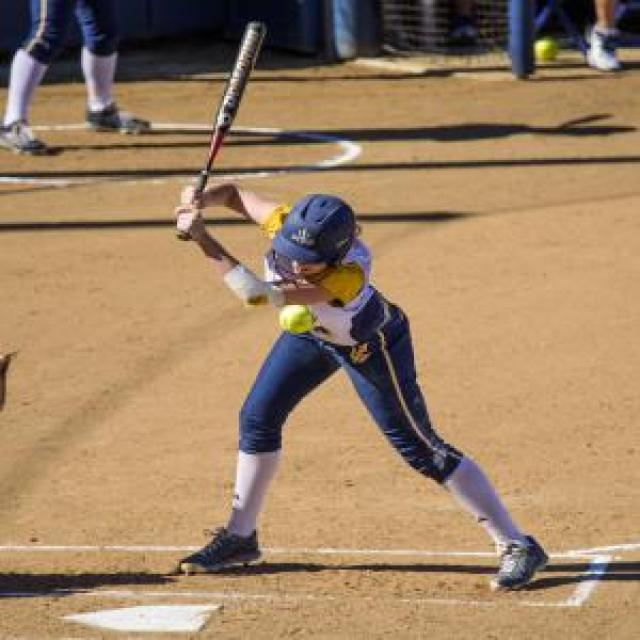Tennis-Ball: (278, 302, 315, 340), (536, 39, 558, 62)
